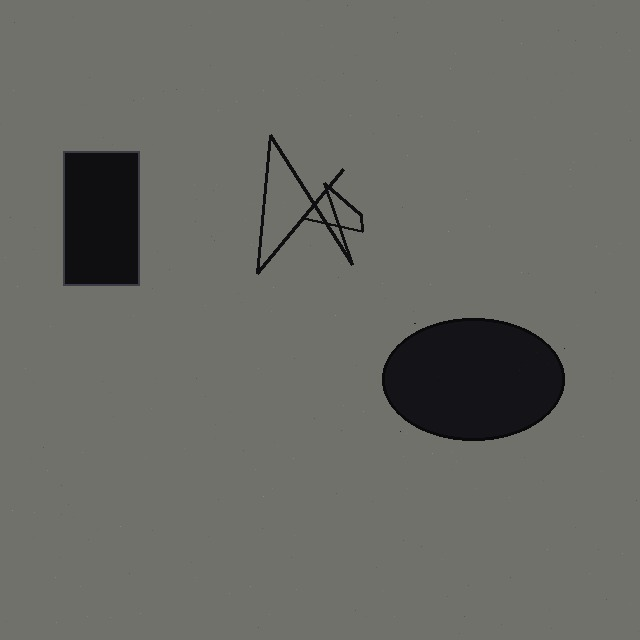crocodile_crack: (254, 117, 383, 290)
phone: (63, 151, 216, 285)
pothole: (382, 318, 564, 440)
